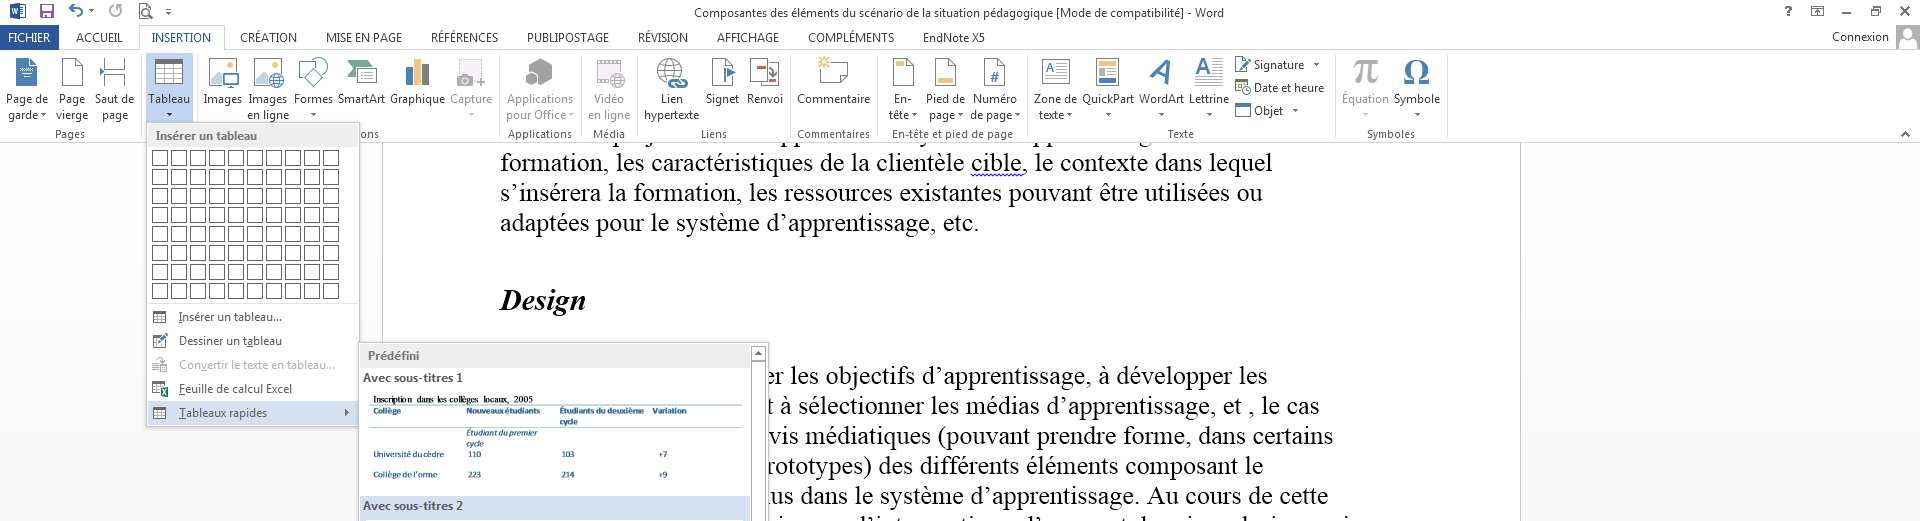texte: (16, 36, 182, 86), (651, 139, 812, 181), (1202, 56, 1300, 116), (213, 56, 375, 88), (1047, 396, 1215, 420), (971, 485, 1138, 510), (767, 213, 936, 237), (923, 367, 1090, 390), (1046, 60, 1171, 85), (152, 150, 339, 165), (152, 169, 339, 185), (152, 188, 339, 203), (152, 207, 339, 223), (152, 226, 339, 241), (152, 245, 339, 261), (152, 264, 339, 280), (152, 283, 339, 299), (804, 427, 931, 450), (1117, 367, 1232, 390), (769, 456, 871, 481), (1127, 458, 1238, 481), (634, 183, 741, 205), (877, 143, 964, 170), (500, 289, 585, 316), (800, 396, 924, 414), (501, 153, 609, 174), (893, 129, 1011, 147), (939, 427, 1030, 450), (501, 213, 589, 237), (827, 367, 913, 390), (880, 485, 962, 510), (967, 150, 1027, 181), (677, 213, 759, 237), (900, 183, 1000, 201), (396, 360, 453, 392), (1037, 427, 1116, 450), (501, 183, 600, 201), (711, 58, 779, 85), (893, 58, 956, 86), (1084, 85, 1134, 120), (921, 456, 1018, 474), (486, 392, 539, 425), (1009, 186, 1092, 207), (369, 337, 419, 371), (1027, 456, 1118, 474), (313, 23, 369, 51), (1145, 183, 1229, 201), (599, 392, 644, 425), (1210, 153, 1272, 177), (1060, 154, 1149, 170), (1124, 427, 1190, 447), (1253, 427, 1332, 444), (966, 396, 1040, 414), (784, 189, 891, 201), (793, 130, 869, 147), (180, 336, 280, 347), (359, 360, 389, 392), (560, 392, 589, 425), (467, 430, 538, 444), (230, 398, 267, 424), (179, 384, 262, 395), (179, 313, 272, 322), (1140, 130, 1193, 147), (698, 116, 726, 148), (988, 116, 1014, 151), (153, 407, 223, 419), (801, 485, 847, 504), (613, 143, 644, 170), (596, 219, 644, 237), (1199, 427, 1245, 444), (1111, 9, 1183, 20), (696, 9, 767, 20), (1280, 488, 1329, 504), (1156, 153, 1201, 170), (984, 9, 1053, 20), (1141, 94, 1229, 103), (809, 33, 894, 42), (945, 116, 966, 151), (1236, 103, 1283, 118), (1100, 183, 1138, 201), (528, 33, 609, 42), (598, 85, 623, 112), (645, 110, 699, 123), (1187, 492, 1240, 504), (373, 396, 407, 416), (798, 94, 869, 103), (879, 456, 912, 474), (1404, 60, 1429, 85), (971, 110, 1020, 123), (509, 130, 571, 140), (391, 94, 444, 105), (407, 59, 429, 85), (1333, 80, 1352, 110), (594, 129, 624, 147), (984, 58, 1005, 85), (432, 33, 497, 42), (1147, 487, 1179, 504), (718, 33, 779, 42), (749, 183, 778, 201), (924, 33, 984, 42), (140, 2, 171, 18), (152, 33, 211, 42), (944, 216, 978, 230), (769, 427, 798, 444), (394, 501, 453, 510), (1395, 94, 1440, 105), (1035, 143, 1053, 170), (931, 396, 958, 414), (241, 33, 296, 42), (1833, 32, 1888, 40), (9, 110, 47, 123), (791, 367, 818, 384), (1240, 367, 1267, 384), (148, 93, 190, 104), (1368, 130, 1414, 140), (7, 94, 48, 105), (1249, 485, 1272, 504), (1255, 60, 1304, 69), (249, 94, 287, 105), (242, 336, 280, 347), (973, 23, 988, 51), (639, 33, 687, 42), (204, 94, 241, 105), (228, 322, 240, 356), (76, 33, 122, 42), (792, 9, 839, 17), (820, 153, 844, 170), (1287, 402, 1319, 414), (339, 94, 384, 103), (233, 313, 272, 322), (1871, 6, 1910, 16), (936, 9, 980, 17), (1033, 94, 1078, 103), (860, 9, 902, 17), (973, 94, 1016, 103), (707, 94, 740, 105), (69, 4, 94, 17), (231, 384, 262, 395), (1057, 9, 1091, 18), (157, 131, 196, 140), (217, 131, 256, 140), (973, 116, 983, 151), (96, 94, 133, 103), (295, 94, 332, 103), (217, 376, 229, 402), (609, 183, 626, 201), (1237, 189, 1262, 201), (1262, 396, 1280, 414), (1245, 456, 1262, 474), (856, 485, 873, 504), (56, 113, 88, 123), (931, 113, 962, 123), (264, 110, 289, 123), (748, 94, 782, 103), (934, 116, 943, 151), (852, 153, 869, 170), (651, 213, 669, 230), (770, 492, 793, 504), (56, 130, 84, 140), (507, 23, 517, 51), (459, 94, 491, 103), (1224, 398, 1242, 414), (60, 94, 84, 105), (152, 381, 168, 397), (103, 113, 129, 123), (1195, 9, 1223, 17), (889, 110, 917, 119), (362, 501, 391, 510), (267, 384, 291, 394), (1040, 112, 1071, 119), (373, 33, 400, 42), (219, 306, 229, 330), (153, 333, 168, 348), (1364, 97, 1389, 105), (653, 408, 687, 414), (431, 396, 458, 403), (384, 452, 422, 457), (769, 371, 784, 384), (781, 396, 791, 414), (927, 94, 948, 103), (662, 94, 682, 103), (1100, 367, 1109, 384), (1262, 86, 1287, 92), (153, 311, 167, 322), (771, 9, 789, 17), (589, 112, 609, 119), (895, 94, 911, 103), (1302, 86, 1324, 92), (675, 78, 688, 88), (1238, 85, 1251, 94), (1811, 6, 1824, 16), (636, 101, 640, 126), (560, 419, 577, 427), (842, 9, 855, 17), (907, 9, 920, 17), (1095, 9, 1107, 17), (361, 132, 378, 139), (955, 94, 965, 103), (200, 134, 213, 140), (820, 56, 828, 67), (615, 114, 626, 121), (1100, 61, 1116, 66), (249, 113, 260, 119), (923, 9, 931, 17), (542, 110, 550, 119), (769, 398, 773, 414), (457, 501, 463, 510), (853, 367, 894, 368), (457, 373, 462, 382), (1785, 6, 1791, 13), (896, 61, 904, 66), (757, 66, 767, 69), (756, 351, 760, 356), (345, 409, 349, 416), (167, 113, 171, 116), (1314, 63, 1319, 66), (1106, 113, 1111, 116), (473, 452, 476, 457), (1250, 412, 1253, 418), (1842, 12, 1851, 13), (658, 63, 660, 66), (1293, 109, 1297, 112), (660, 454, 662, 456), (1024, 367, 1027, 368), (509, 101, 513, 101), (1189, 13, 1191, 13)
